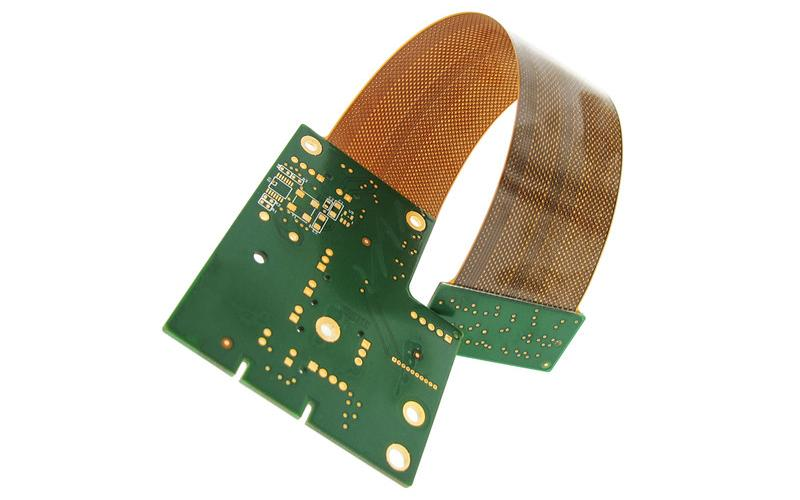Printed Circuit Board PCB: (164, 12, 623, 486)
